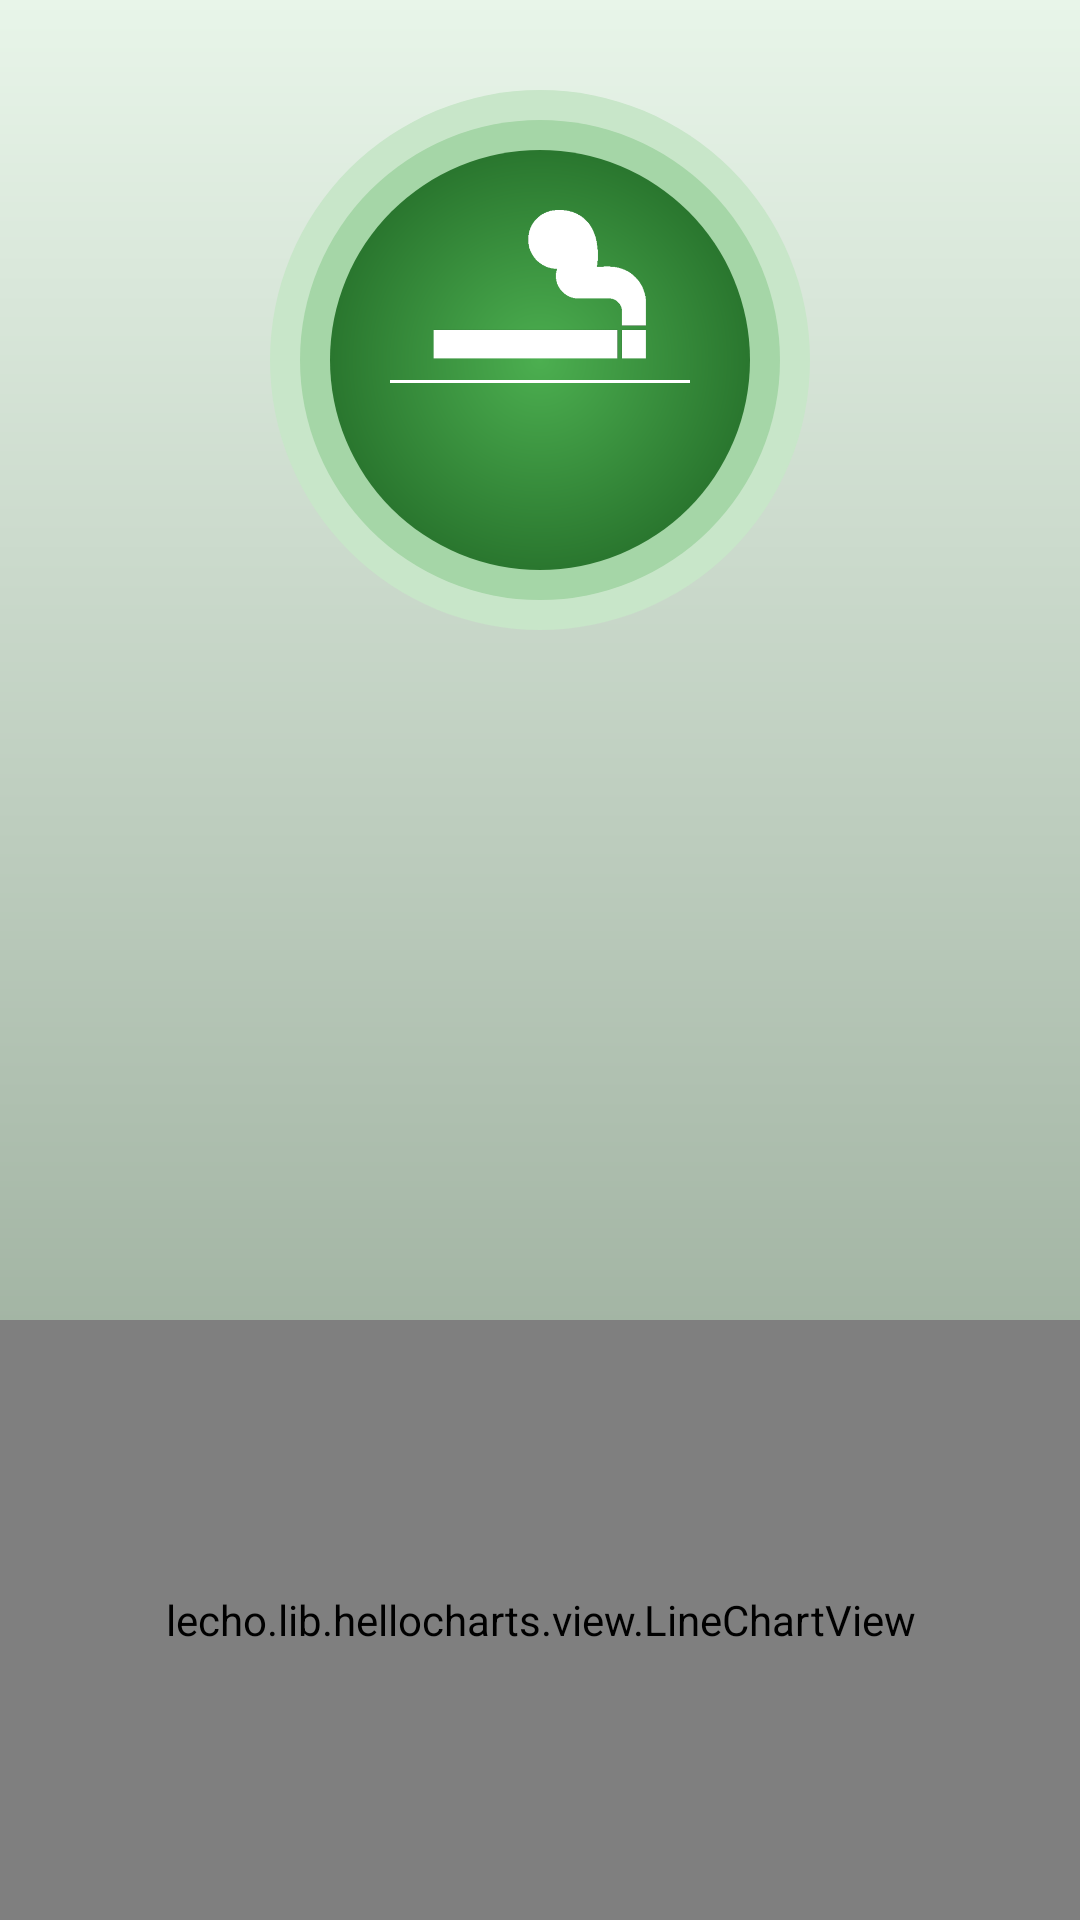

Icons on this 1080x1920 Android screen, each with the point to tap as point (x, y):
Consume button: point (540, 284)
